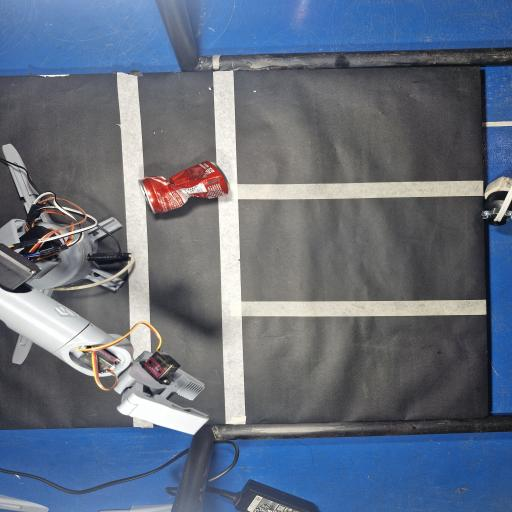lata_defectuoso: (139, 161, 229, 214)
